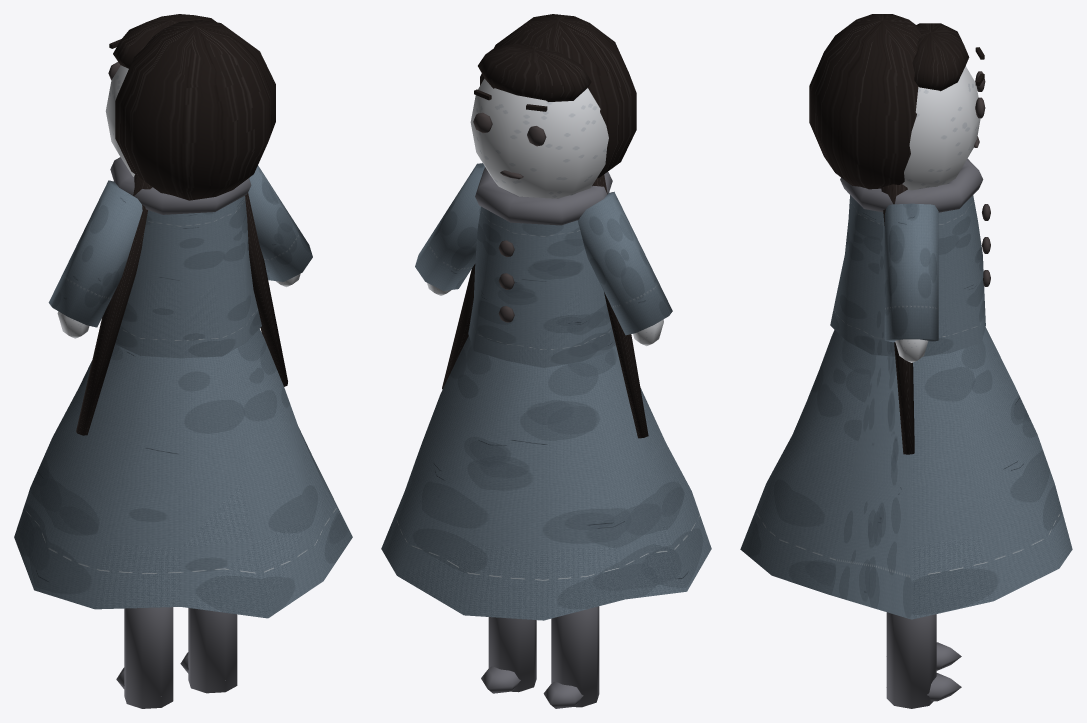
File: bup-be-ma.glb
The picture shows the model from 3 angles, left to right: view 1: azimuth 30°, elevation 25°; view 2: azimuth 150°, elevation 25°; view 3: azimuth 270°, elevation 25°; orthographic projection. The views are drawn at different scales.
Parts seen in each view (by area): view 1: vay; view 2: vay; view 3: vay.
Boxes of the visible parts, x1,y1,x2,y2 form: vay: (14, 14, 352, 708); vay: (381, 14, 711, 708); vay: (740, 14, 1072, 708).
Bounding box in the file's own units: 0.2272 × 0.5007 × 0.2272.
Materials: 5 (3 with a texture image).
